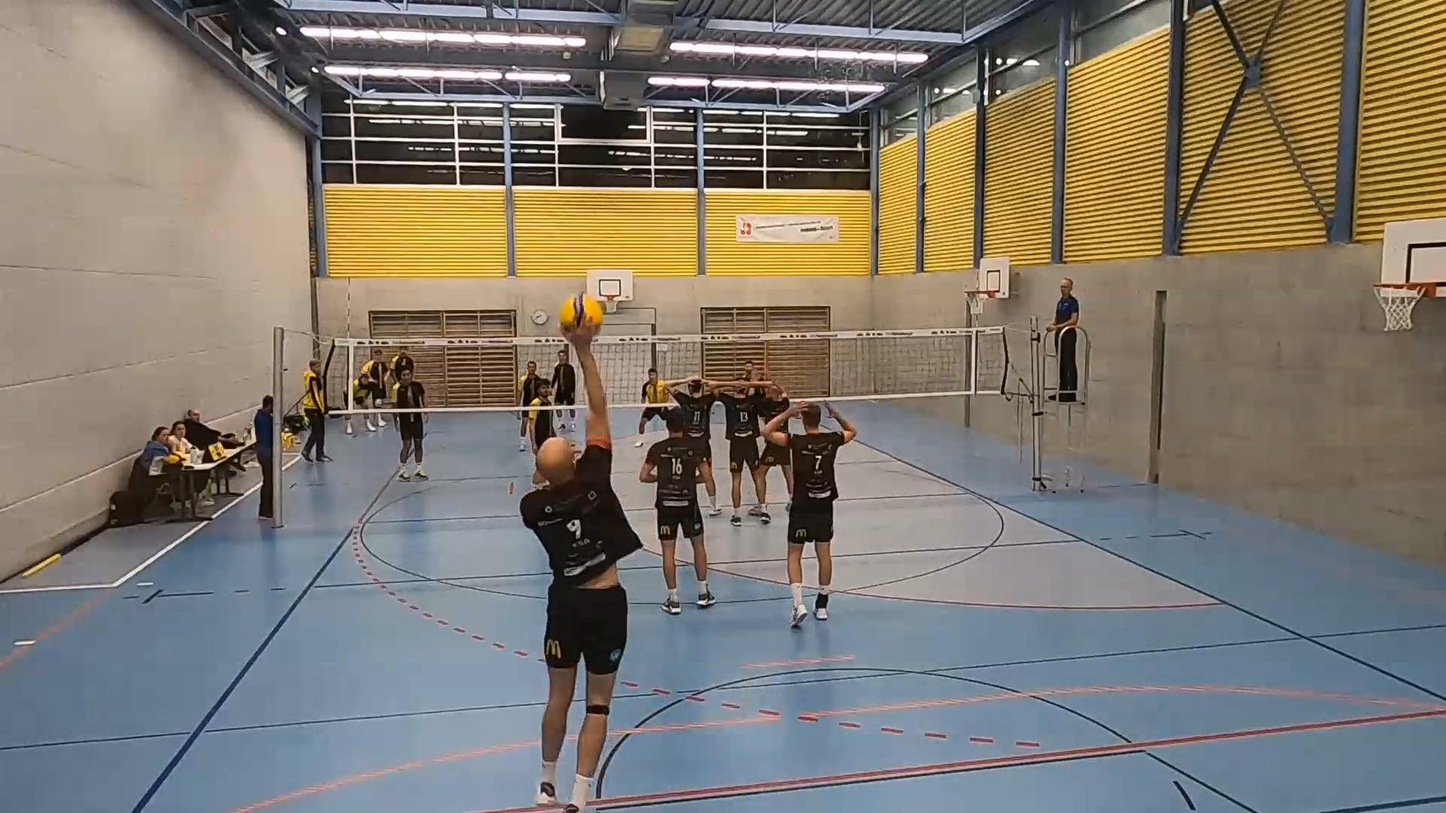battuta: (517, 318, 645, 809)
